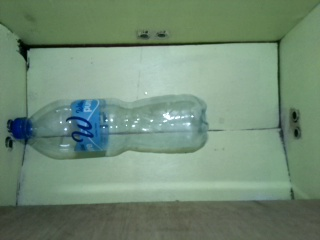bottle: (10, 95, 208, 160)
